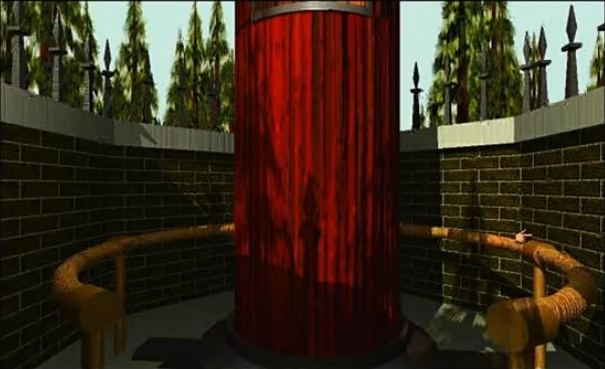Pointer: (512, 226, 535, 247)
